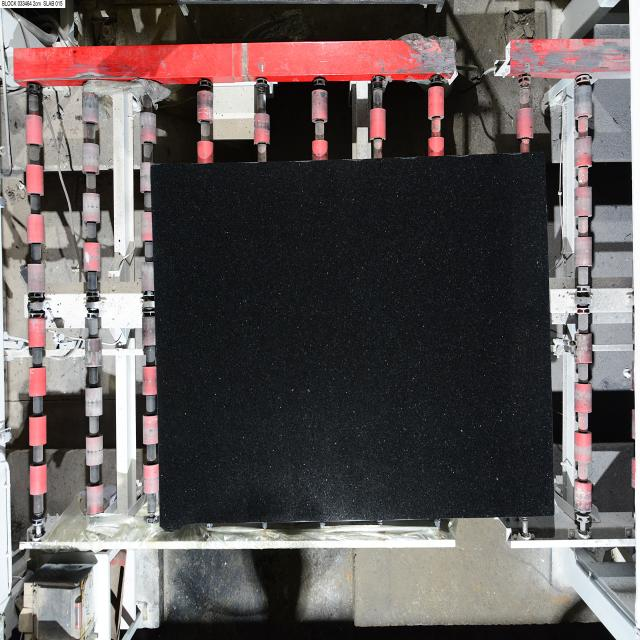chapa: (151, 154, 554, 529)
